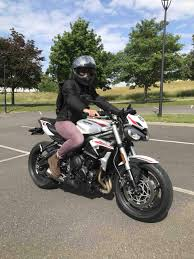moto: (28, 111, 174, 225)
person: (58, 52, 102, 144)
